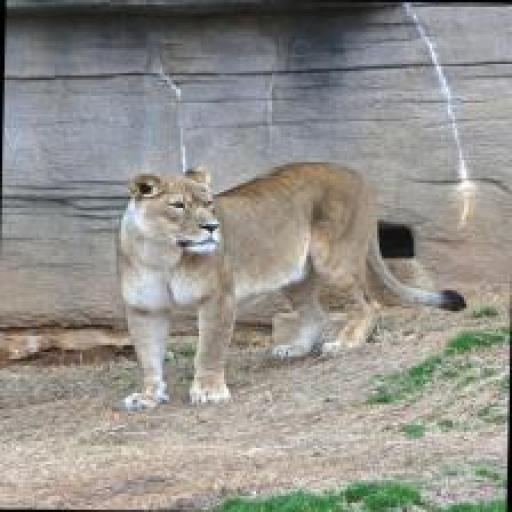lion: (112, 160, 471, 416)
